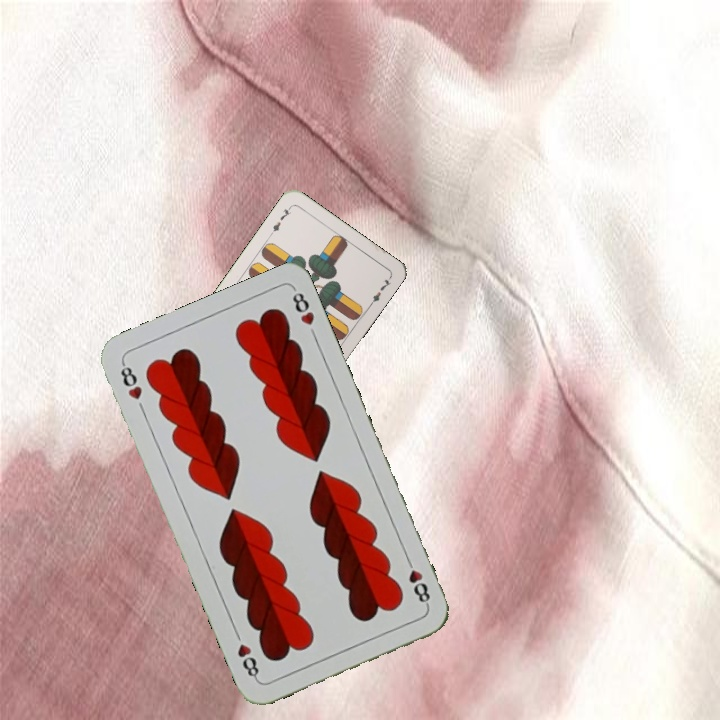E7: (266, 202, 294, 237)
H8: (401, 553, 433, 609), (116, 358, 145, 403)
